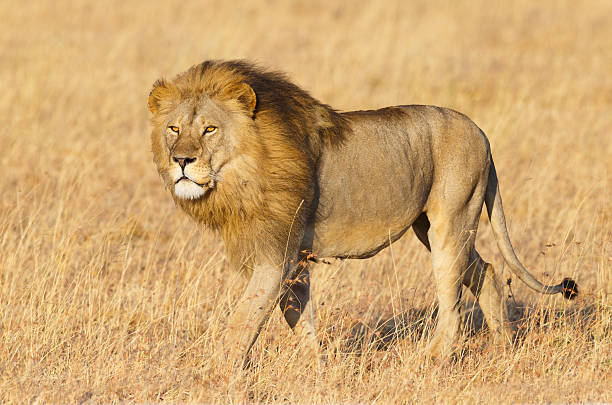lion: (105, 46, 371, 300)
